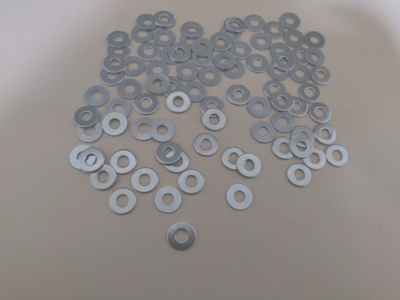circle: (168, 222, 196, 251), (155, 187, 182, 215), (226, 184, 254, 211), (90, 164, 118, 191), (109, 189, 137, 215), (132, 168, 160, 193), (70, 145, 97, 170), (111, 150, 137, 175), (193, 133, 220, 157), (237, 153, 262, 178), (222, 147, 247, 172), (287, 163, 312, 188), (179, 170, 205, 194), (102, 112, 128, 136), (202, 108, 227, 132), (150, 119, 175, 143), (131, 118, 156, 142), (77, 120, 103, 143), (81, 148, 105, 172), (157, 141, 182, 164), (166, 91, 191, 114), (106, 98, 131, 121), (135, 93, 160, 116), (84, 85, 109, 108), (74, 106, 100, 128), (326, 145, 350, 168), (290, 136, 314, 159), (272, 137, 297, 159), (201, 96, 224, 119), (252, 122, 276, 144), (291, 126, 315, 148), (161, 77, 185, 99), (100, 66, 125, 87), (304, 147, 326, 170), (314, 124, 337, 146), (227, 85, 251, 106), (183, 82, 207, 103), (118, 79, 142, 100), (198, 66, 222, 87), (248, 97, 271, 118), (264, 80, 287, 101), (308, 103, 332, 123), (298, 83, 322, 103), (146, 60, 170, 80), (104, 54, 128, 74), (106, 42, 131, 61), (273, 112, 295, 133), (286, 97, 308, 118), (271, 91, 294, 111), (147, 74, 170, 94), (191, 47, 214, 67), (176, 62, 199, 82), (213, 52, 237, 71), (122, 57, 146, 76), (311, 66, 333, 86), (211, 33, 233, 53), (230, 40, 252, 60), (219, 25, 242, 44), (169, 43, 192, 62), (138, 43, 161, 62), (290, 64, 311, 84), (268, 62, 289, 82), (292, 46, 314, 65), (304, 31, 326, 50), (180, 32, 202, 51), (247, 54, 269, 73), (224, 60, 246, 79), (192, 39, 215, 57), (274, 52, 295, 71), (304, 48, 325, 67), (270, 43, 292, 61), (279, 12, 301, 30), (251, 33, 273, 51), (154, 29, 176, 47), (108, 31, 131, 48), (154, 11, 176, 28), (136, 14, 158, 31), (132, 26, 154, 43), (181, 22, 204, 38), (265, 21, 285, 39), (285, 30, 306, 47), (245, 15, 266, 32), (224, 17, 245, 34)
